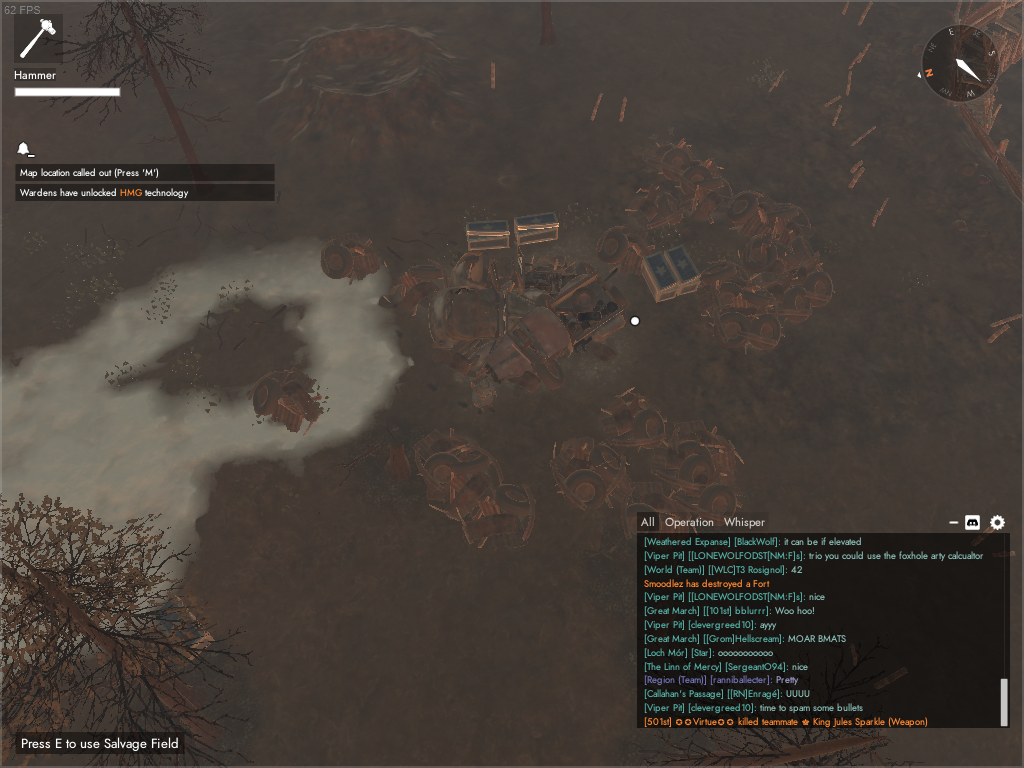player: (460, 371, 509, 416)
scrap: (410, 425, 542, 555), (651, 419, 750, 529), (740, 227, 837, 326), (616, 478, 714, 568), (699, 255, 786, 355), (723, 185, 820, 264), (546, 433, 638, 513), (244, 361, 333, 438), (669, 152, 744, 227), (601, 387, 671, 452), (592, 217, 662, 278), (319, 228, 388, 289), (625, 183, 689, 237), (648, 135, 706, 187)
scrapyard: (371, 238, 640, 396)
storage_box: (145, 589, 217, 667), (662, 243, 705, 299), (637, 250, 679, 303), (463, 213, 514, 256), (510, 207, 562, 249)
